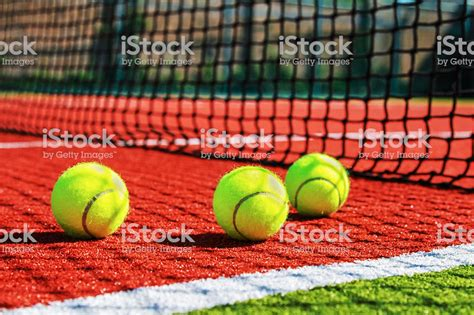tennis_ball: (51, 161, 131, 241), (211, 165, 289, 242), (284, 152, 350, 217)
